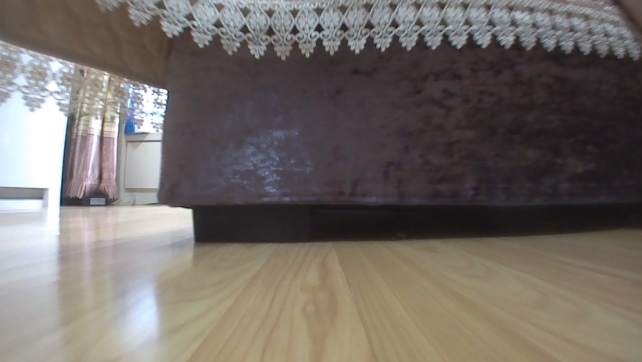sofa1: (0, 0, 641, 245)
